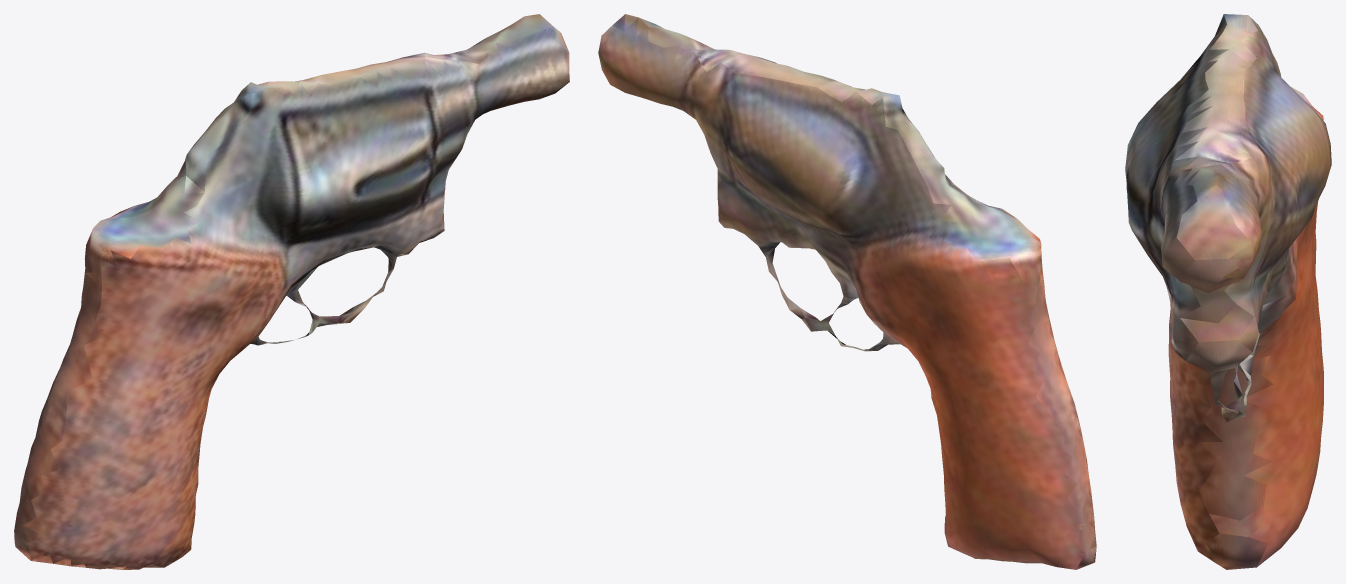
Rendered from revolver2.glb.
3 views of the same model, side by side, from view 1: azimuth 30°, elevation 25°; view 2: azimuth 150°, elevation 25°; view 3: azimuth 270°, elevation 25° (orthographic). The views are drawn at different scales.
Parts seen in each view (by area): view 1: geometry_0.023; view 2: geometry_0.023; view 3: geometry_0.023.
Boxes of the visible parts, left/top/right/bottom form: geometry_0.023: left=14, top=14, right=569, bottom=569; geometry_0.023: left=598, top=14, right=1096, bottom=569; geometry_0.023: left=1125, top=14, right=1331, bottom=569.
Bounding box in the file's own units: 0.1675 × 0.1407 × 0.0425.
Materials: 1 (1 with a texture image).
